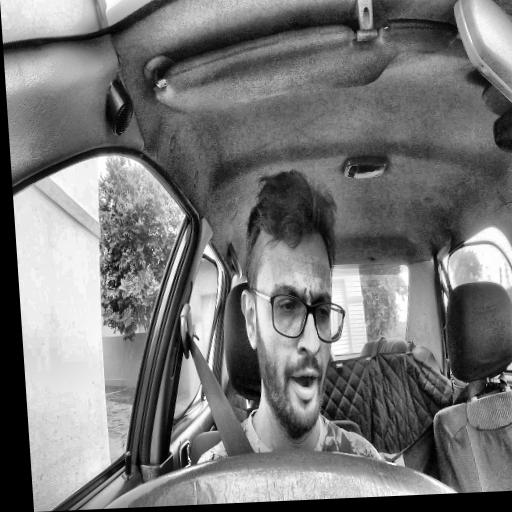awake: (232, 169, 354, 440)
